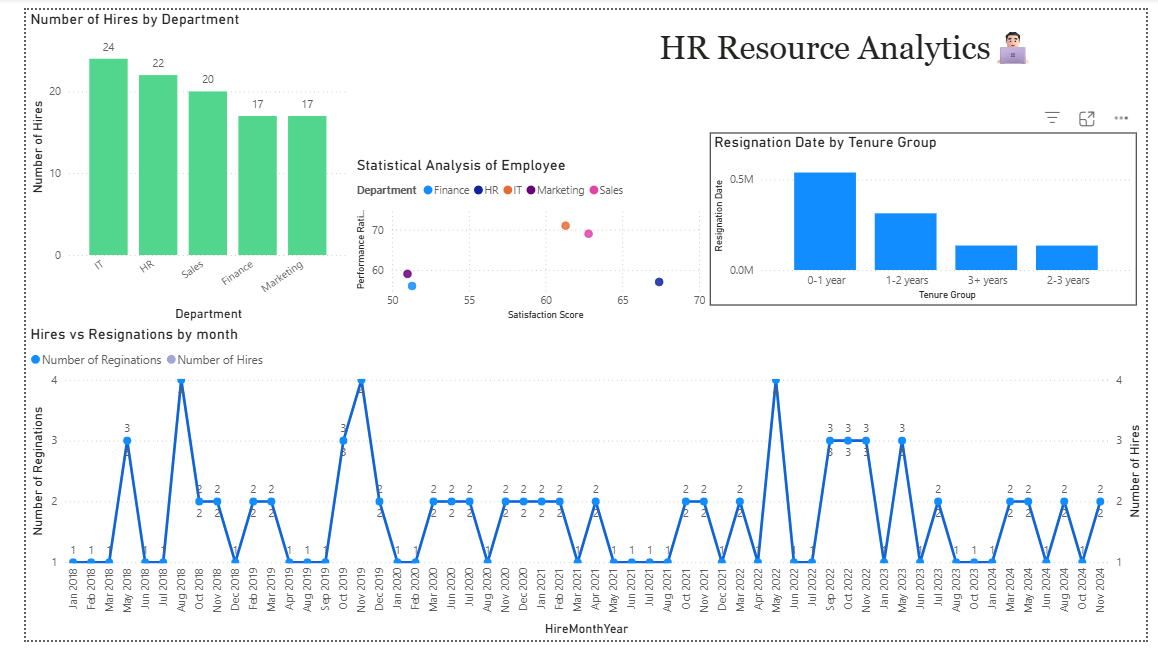

The dashboard page shown, as its layout file describes it:
{"tool":"powerbi","page":{"name":"Page 1","canvas":[1280,720],"ordinal":0},"visuals":[{"type":"clusteredColumnChart","fields":{"Category":["HR Resource Analytics.Department"],"Y":["CountNonNull(HR Resource Analytics.EmployeeID)"]},"box":[0,0,372.9,360],"z":0},{"type":"lineChart","title":"Hires vs Resignations by month","fields":{"Y2":["CountNonNull(HR Resource Analytics.EmployeeID)"],"Category":["HR Resource Analytics.HireMonthYear"],"Y":["CountNonNull(HR Resource Analytics.ResignMonthYear)"]},"box":[0,360,1280,360],"z":2000},{"type":"textbox","box":[718.6,11.4,491.4,65.7],"z":3000},{"type":"scatterChart","title":"Statistical Analysis of Employee","fields":{"X":["Sum(HR Resource Analytics.Satisfaction Score)"],"Y":["Sum(HR Resource Analytics.Performance Rating)"],"Series":["HR Resource Analytics.Department"]},"box":[372.9,167.1,408.6,192.9],"z":3001},{"type":"clusteredColumnChart","fields":{"Y":["Sum(HR Resource Analytics.Resignation Date)"],"Category":["HR Resource Analytics.Tenure Group"]},"box":[781.4,140,488.6,197.1],"z":3002}]}

Visuals, with their boxes in screenshot pixels (x1, y1, x2, y2), scaled from the page's 1280x720 canvas onto the 1158x665 screenshot:
clusteredColumnChart - HR Resource Analytics.Department x CountNonNull(HR Resource Analytics.EmployeeID): crop(0, 0, 337, 332)
"Hires vs Resignations by month" lineChart: crop(0, 332, 1157, 664)
textbox: crop(650, 11, 1095, 71)
"Statistical Analysis of Employee" scatterChart: crop(337, 154, 707, 332)
clusteredColumnChart - Sum(HR Resource Analytics.Resignation Date) x HR Resource Analytics.Tenure Group: crop(707, 129, 1149, 311)
